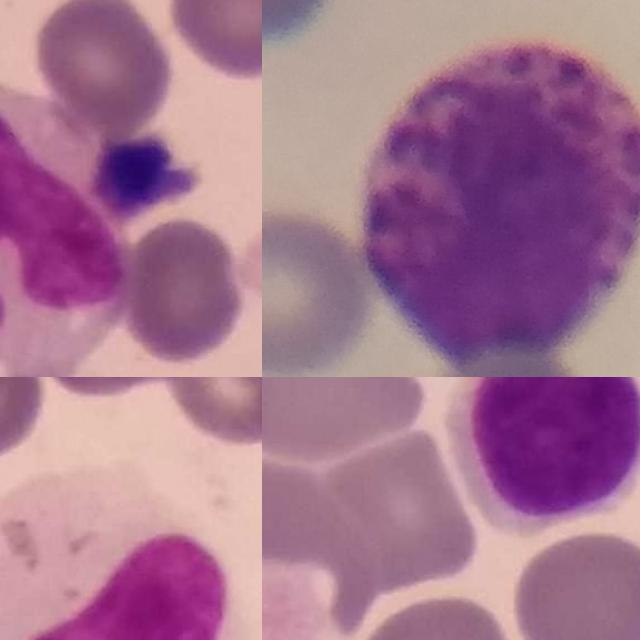Basophil: (359, 34, 640, 363)
Lymphocyte: (449, 377, 640, 540)
Monocyte: (0, 82, 130, 377), (0, 473, 228, 640)
